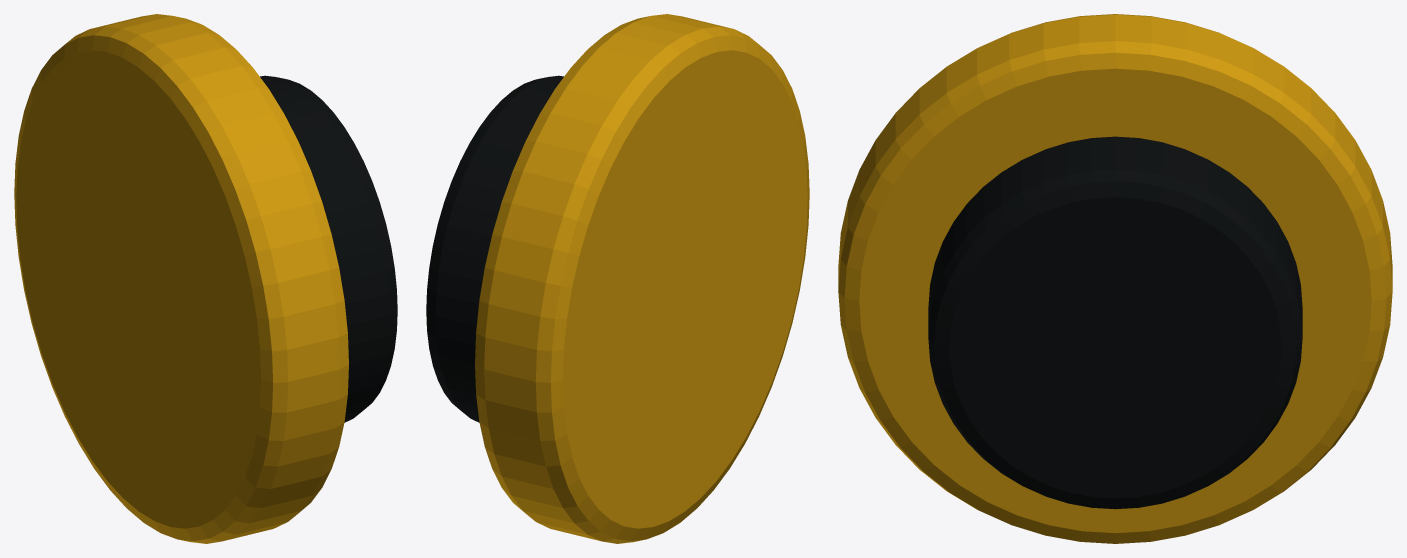
The model's file is SM_WinchButtonMount.obj.
The picture shows the model from 3 angles, left to right: view 1: azimuth 30°, elevation 25°; view 2: azimuth 150°, elevation 25°; view 3: azimuth 270°, elevation 25°; orthographic projection. The views are drawn at different scales.
Visible parts, largest first — view 1: SM_WinchButtonMount; view 2: SM_WinchButtonMount; view 3: SM_WinchButtonMount.
Boxes of the visible parts, <box> form: SM_WinchButtonMount: <box>14,14,397,543</box>; SM_WinchButtonMount: <box>426,14,809,543</box>; SM_WinchButtonMount: <box>838,14,1392,543</box>.
Bounding box in the file's own units: 3.1 × 8 × 8.
